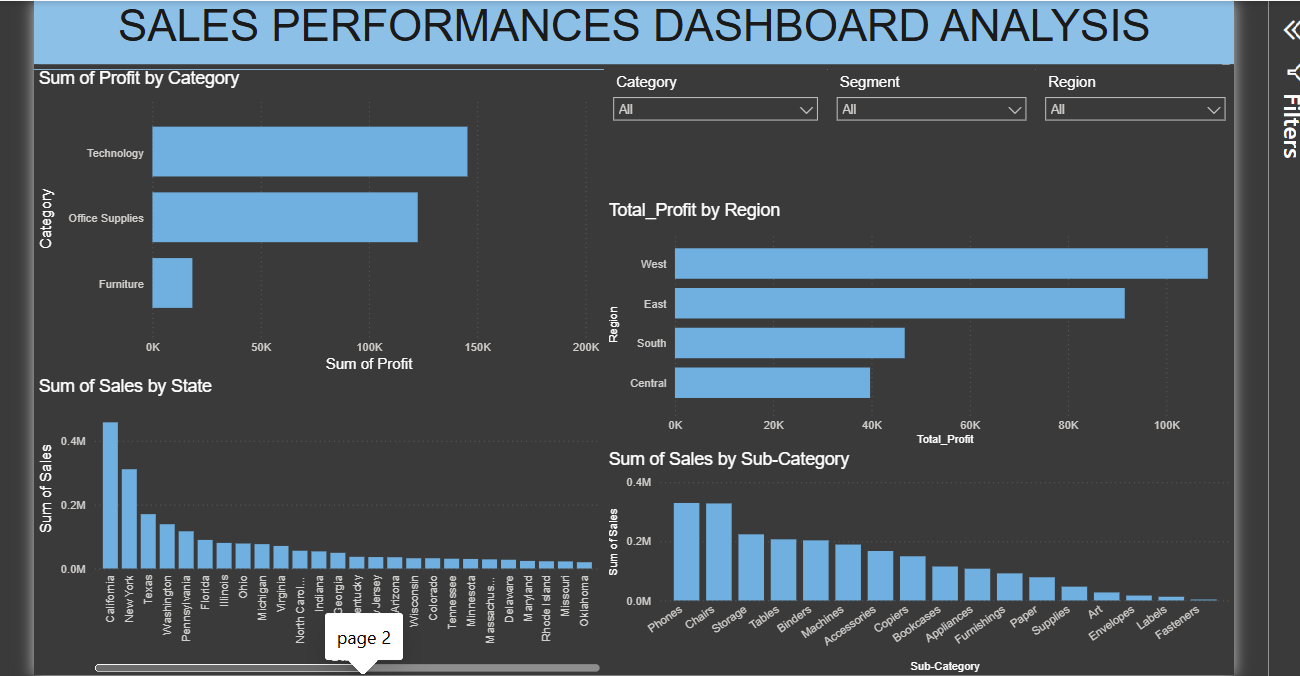

The dashboard page shown, as its layout file describes it:
{"tool":"powerbi","page":{"name":"page 2","canvas":[1280,720],"ordinal":1},"visuals":[{"type":"clusteredBarChart","fields":{"Category":["sales_dashboard.Category"],"Y":["Sum(sales_dashboard.Profit)"]},"box":[0,72,608,328],"z":3000},{"type":"barChart","fields":{"Category":["sales_dashboard.Region"],"Y":["measure table.Total_Profit"]},"box":[608,212,672,266],"z":4000},{"type":"columnChart","fields":{"Category":["sales_dashboard.Sub-Category"],"Y":["Sum(sales_dashboard.Sales)"]},"box":[608,478,672,242],"z":6000},{"type":"clusteredColumnChart","fields":{"Category":["sales_dashboard.State"],"Y":["Sum(sales_dashboard.Sales)"]},"box":[0,400,608,320],"z":7000},{"type":"textbox","title":"SALES   PERFORMANCES DASHBOARD  ANALYSIS","box":[0,0,1280.6,73],"z":10000},{"type":"slicer","fields":{"Values":["sales_dashboard.Category"]},"box":[608,72,238,140],"z":10002},{"type":"slicer","fields":{"Values":["sales_dashboard.Segment"]},"box":[846,72,222,140],"z":10005},{"type":"slicer","fields":{"Values":["sales_dashboard.Region"]},"box":[1068,72,212,140],"z":10006}]}

Visuals, with their boxes on the page's 1280x720 design canvas (x1, y1, x2, y2). These are canvas units, not pixel positions in the 1300x676 screenshot, which may show the page scaled, cropped or inside an application window:
clusteredBarChart - sales_dashboard.Category x Sum(sales_dashboard.Profit): select_region(0, 72, 608, 400)
barChart - sales_dashboard.Region x measure table.Total_Profit: select_region(608, 212, 1280, 478)
columnChart - sales_dashboard.Sub-Category x Sum(sales_dashboard.Sales): select_region(608, 478, 1280, 720)
clusteredColumnChart - sales_dashboard.State x Sum(sales_dashboard.Sales): select_region(0, 400, 608, 720)
"SALES   PERFORMANCES DASHBOARD  ANALYSIS" textbox: select_region(0, 0, 1281, 73)
slicer - sales_dashboard.Category: select_region(608, 72, 846, 212)
slicer - sales_dashboard.Segment: select_region(846, 72, 1068, 212)
slicer - sales_dashboard.Region: select_region(1068, 72, 1280, 212)
